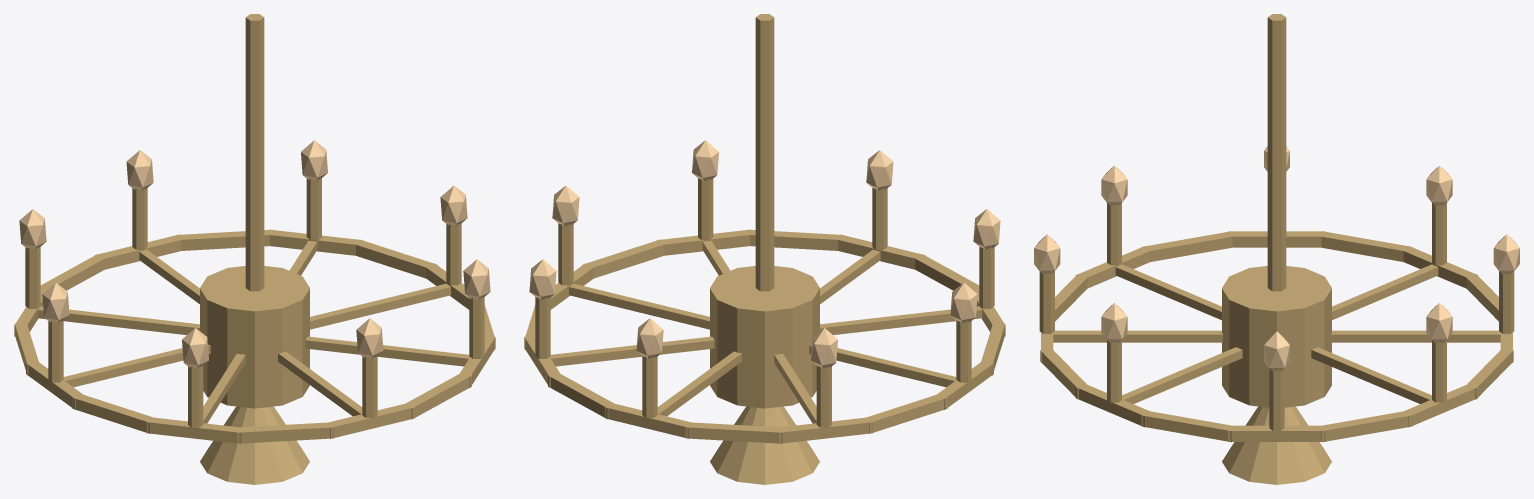
Rendered from SM_Avize.fbx.
3 renders of one model, left to right at view 1: azimuth 30°, elevation 25°; view 2: azimuth 150°, elevation 25°; view 3: azimuth 270°, elevation 25°, orthographic.
Visible parts, largest first — view 1: Avize; view 2: Avize; view 3: Avize.
Boxes of the visible parts, x1,y1,x2,y2 form: Avize: [14, 14, 495, 484]; Avize: [524, 14, 1005, 484]; Avize: [1034, 14, 1519, 484].
Size of the model in its own units: 159 by 160 by 159.
